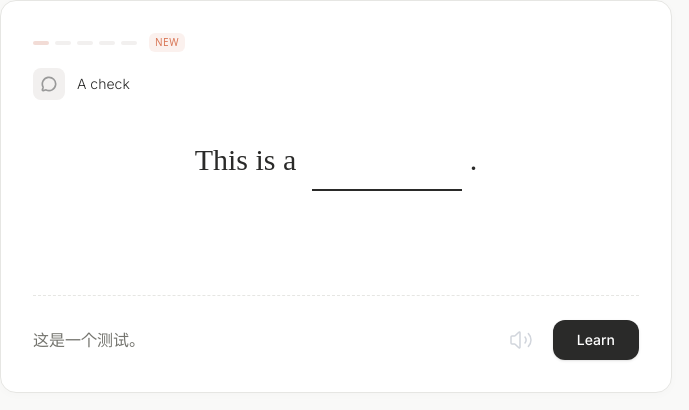
Test: Flashcard component › handles incorrect answer and shows reading hint
In the field: {"x": 387, "y": 161} [312, 132, 462, 191], type "wrong"
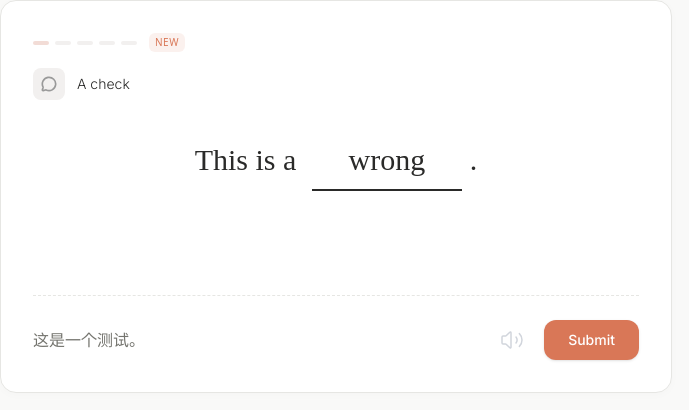
Press Enter in the field, box [312, 132, 462, 191]
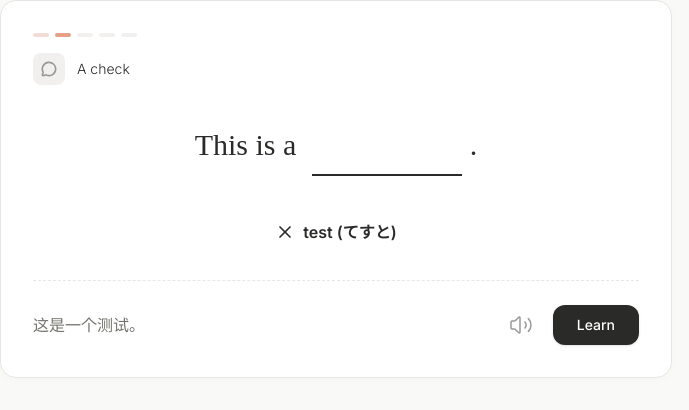
Expected: the text "test (てすと)" is shown, [303, 220, 397, 244]
